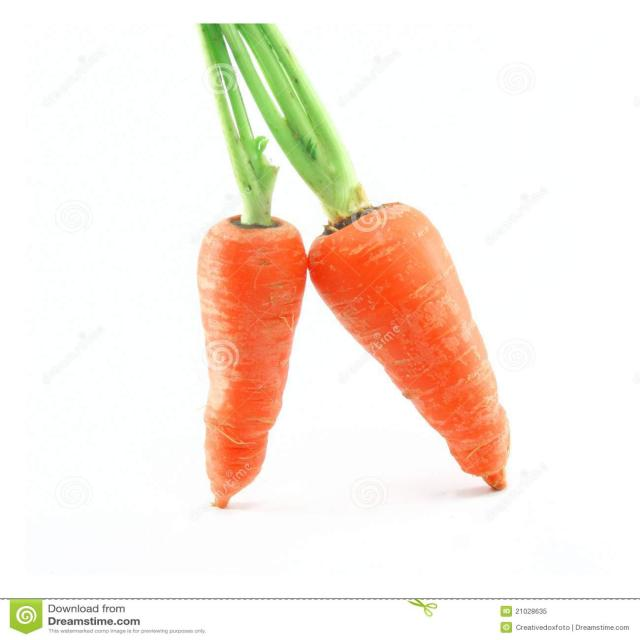Carrot: (317, 203, 523, 501), (186, 209, 305, 512)
